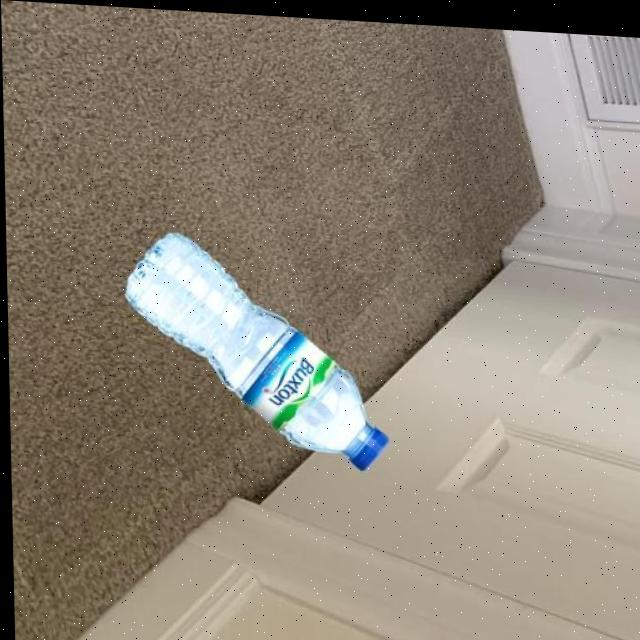bottle: (121, 226, 389, 468)
